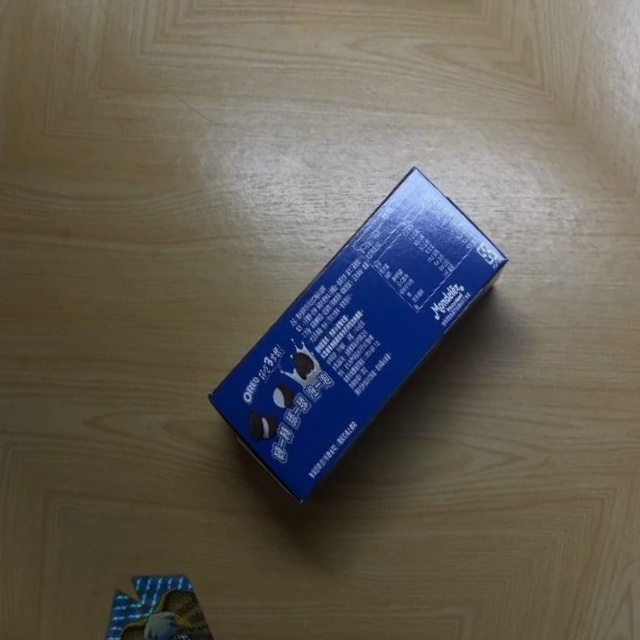Oreo: (178, 157, 544, 506)
